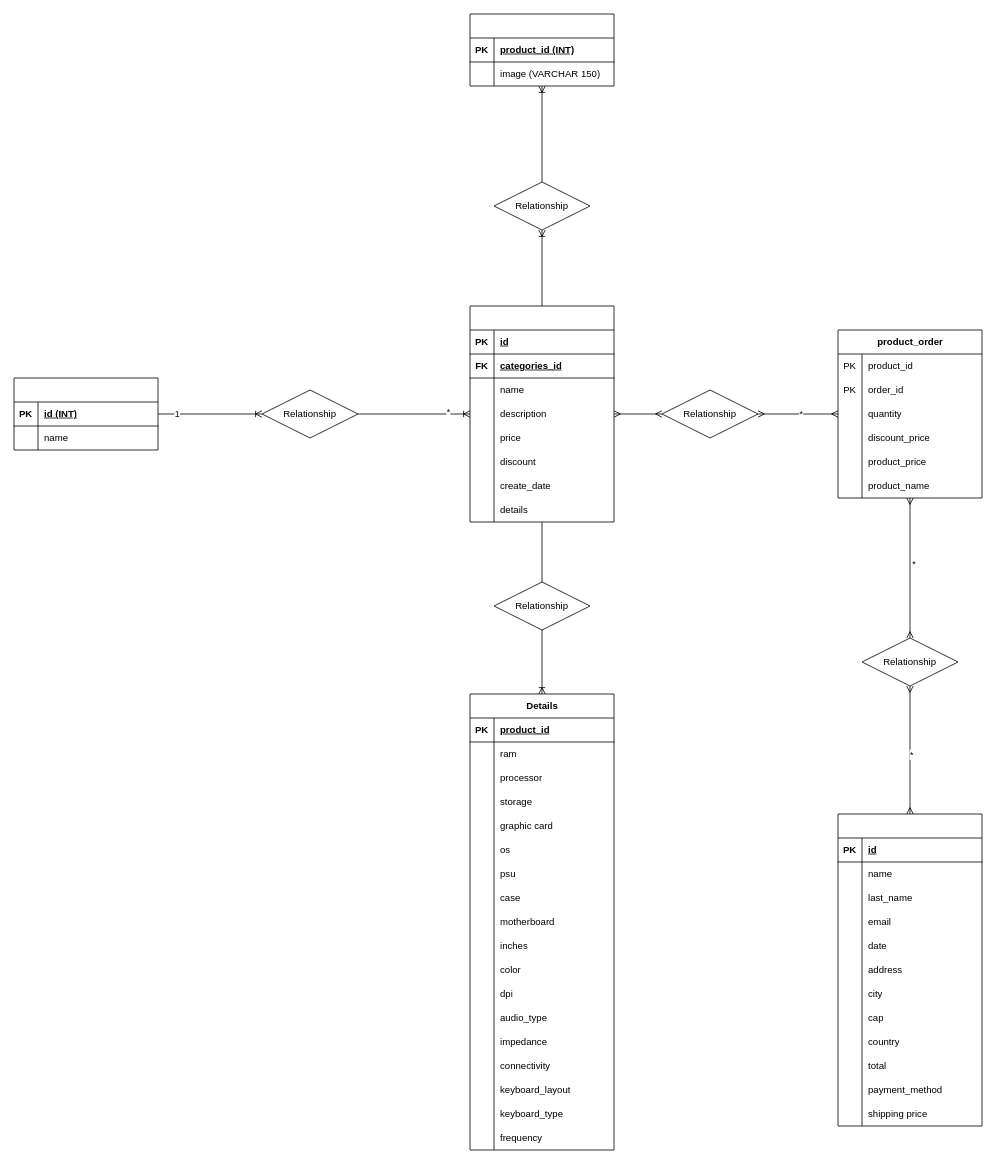
Image size: 996x1164. Some labels were removed from this diagram. The box of each missing label's shape, as (x1, y1, x2, y2) in pixels:
Categories: (13, 377, 158, 450)
Images: (469, 13, 614, 86)
In-voice: (837, 813, 982, 1126)
Products: (469, 305, 614, 522)
